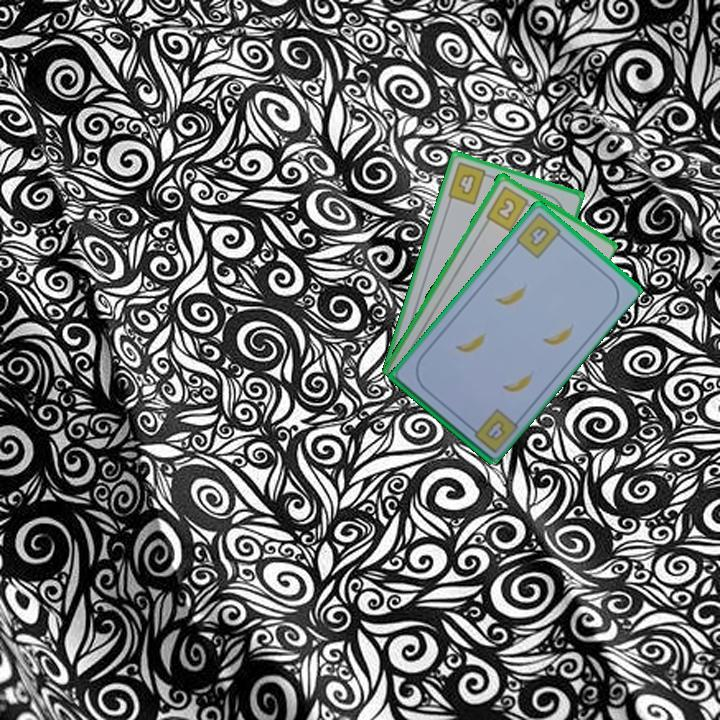2b: (482, 182, 536, 233)
4b: (512, 209, 568, 261), (444, 159, 495, 208), (481, 416, 508, 443)
